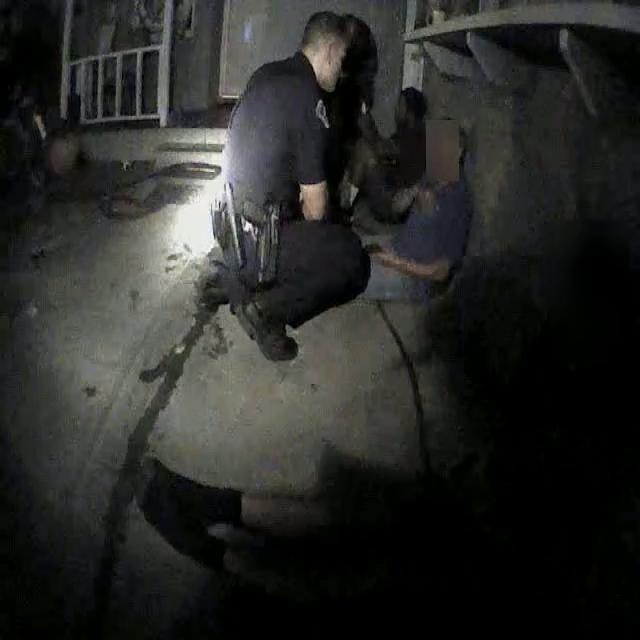gun: (225, 181, 287, 289)
